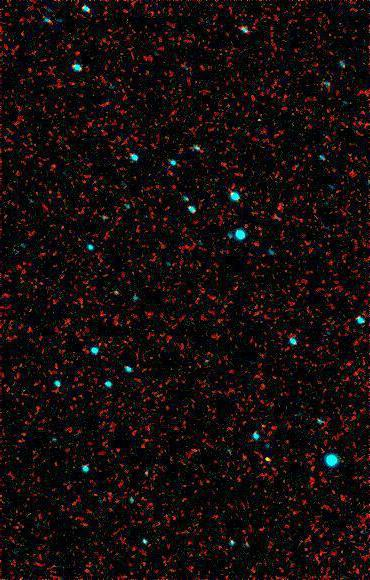star: (251, 446, 281, 476)
